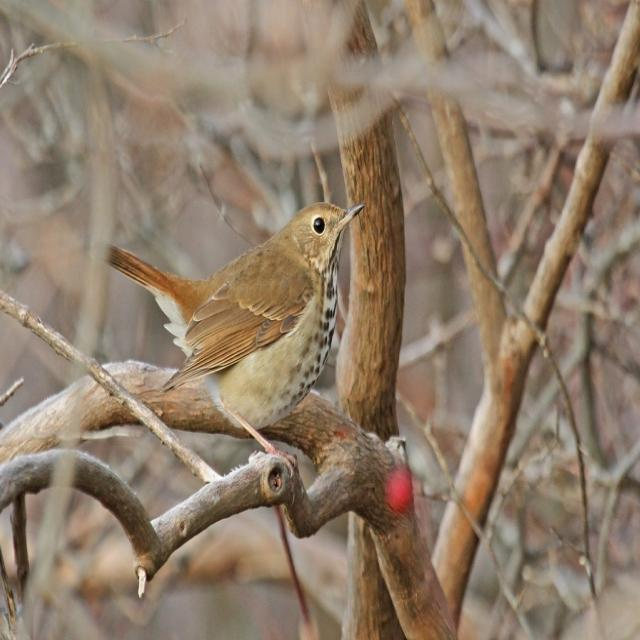bird: (96, 179, 365, 433)
